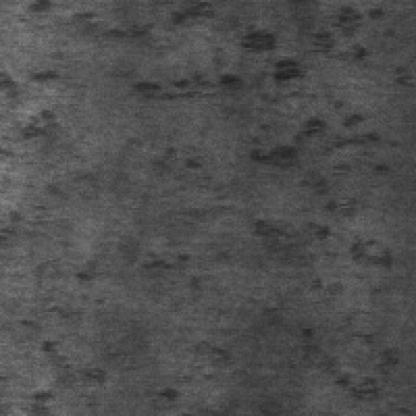rolled-in_scale: (196, 13, 406, 270)
